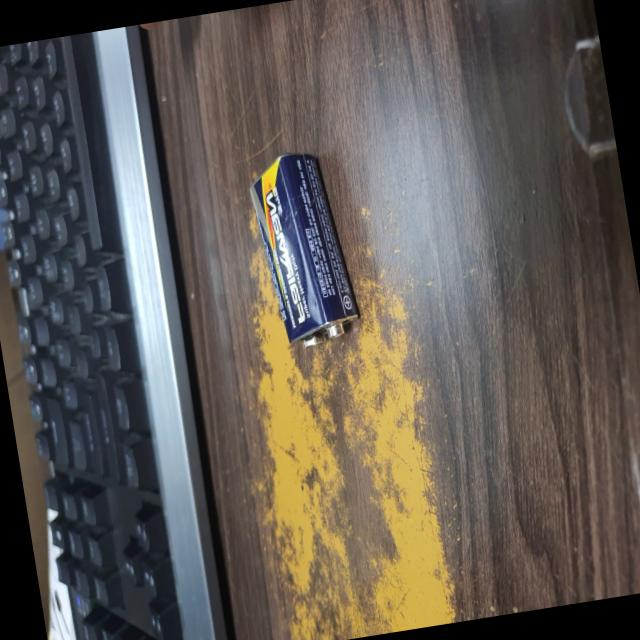battery-etc-etc: (233, 136, 374, 362)
